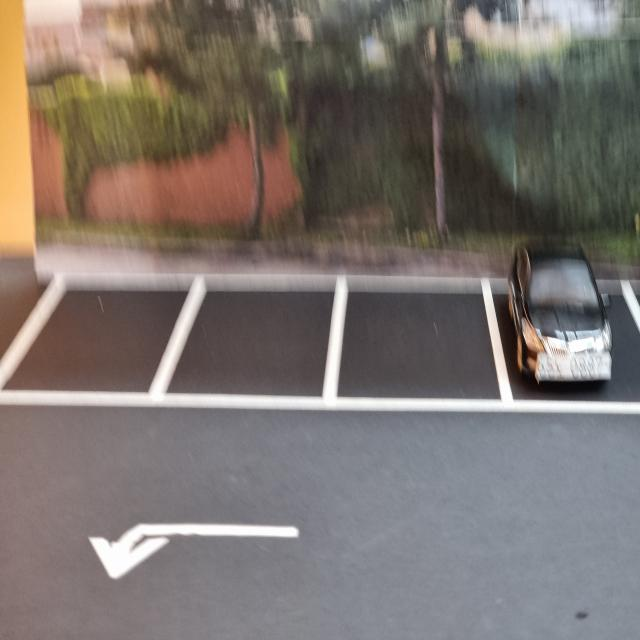empty: (4, 268, 173, 407), (337, 268, 499, 413), (178, 276, 334, 413)
occupied: (502, 236, 616, 402)
